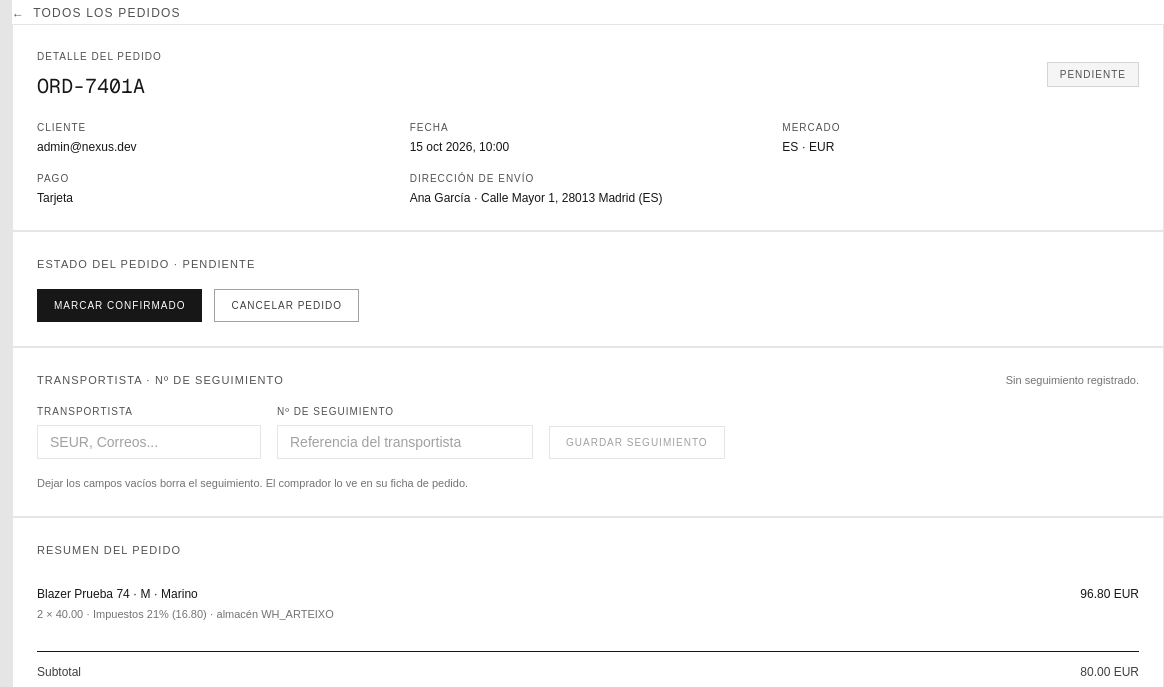
Test: AdminOrderDetailPage › el 409 ORDER_CONFLICT muestra el mensaje del servidor bajo el panel (R3.3)
Expected: the heading "ORD-7401A" is shown, [37,72,162,100]
Click the button "Marcar confirmado" at (120, 305), box [37,288,202,322]
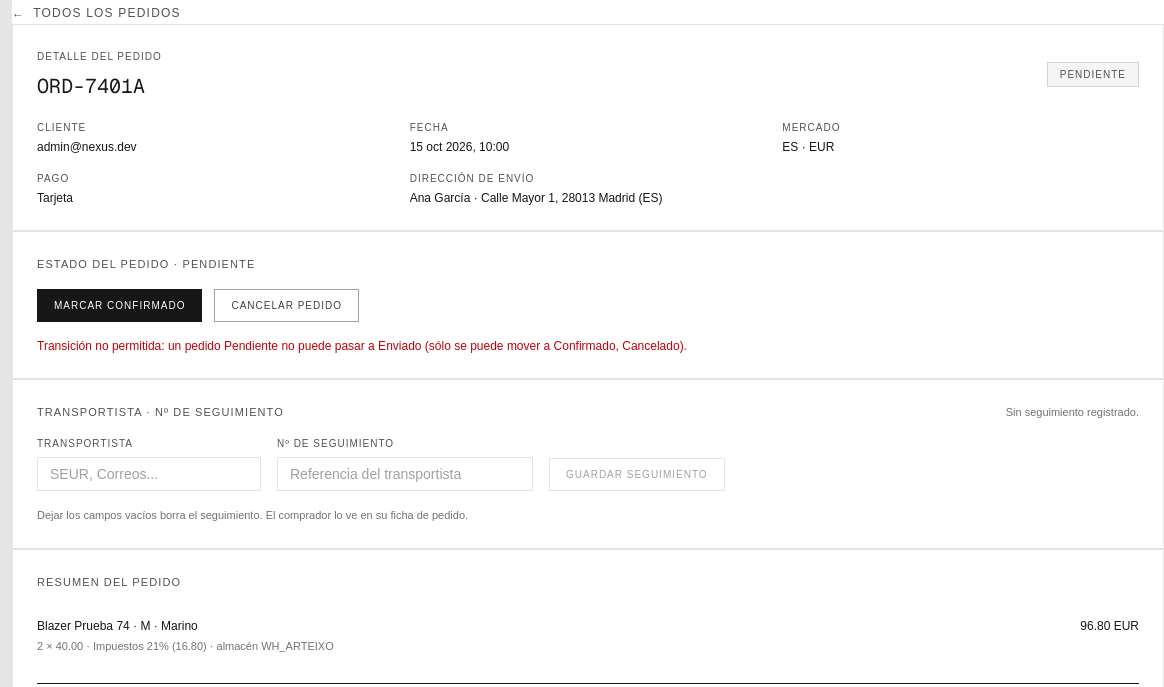
Expected: the button "Cancelar pedido" is shown, [214,288,359,322]
Now the message shows "Transición no permitida", box [37,338,687,352]
